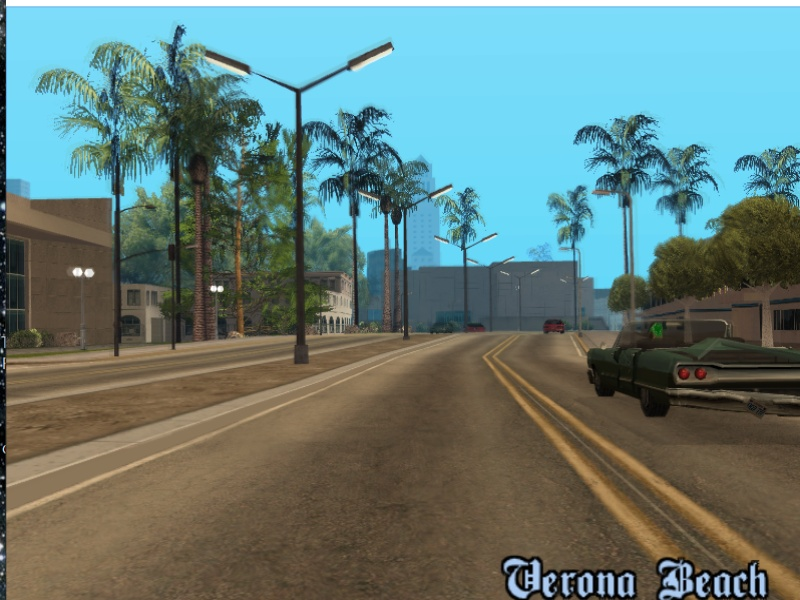pole: (290, 86, 314, 366), (624, 195, 640, 320), (399, 209, 414, 342), (166, 249, 182, 351), (114, 199, 122, 361), (572, 250, 586, 338), (461, 244, 472, 330)
tree: (191, 174, 207, 340), (233, 188, 248, 338), (350, 191, 360, 329), (382, 209, 391, 332)
vehicle: (586, 315, 800, 427), (542, 315, 565, 336), (429, 320, 455, 335)
